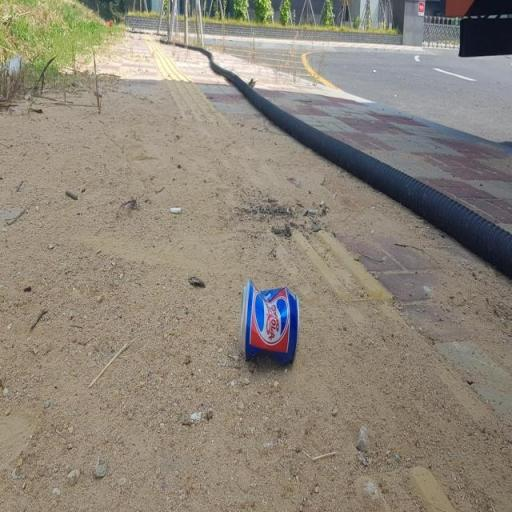metal: (232, 270, 306, 376)
